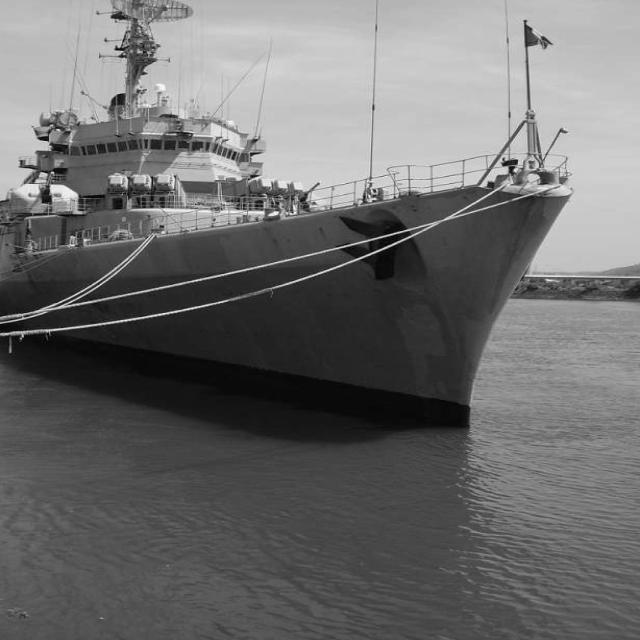Portanaves: (1, 1, 596, 433)
